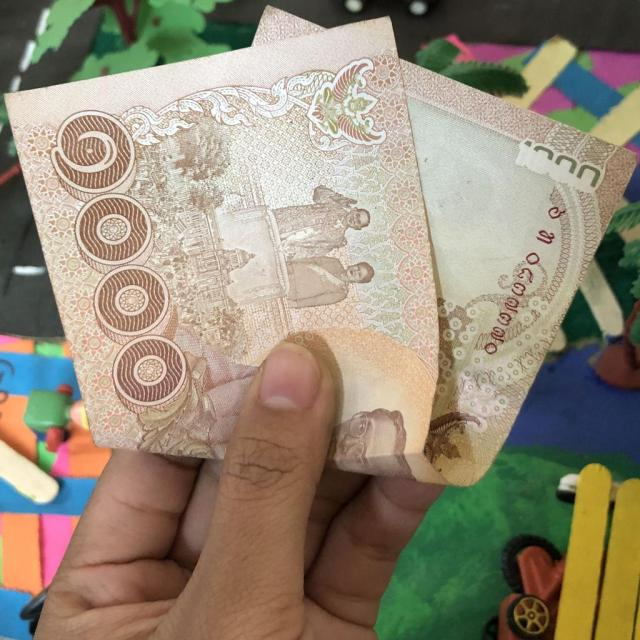THAI1000: (6, 6, 635, 486)
